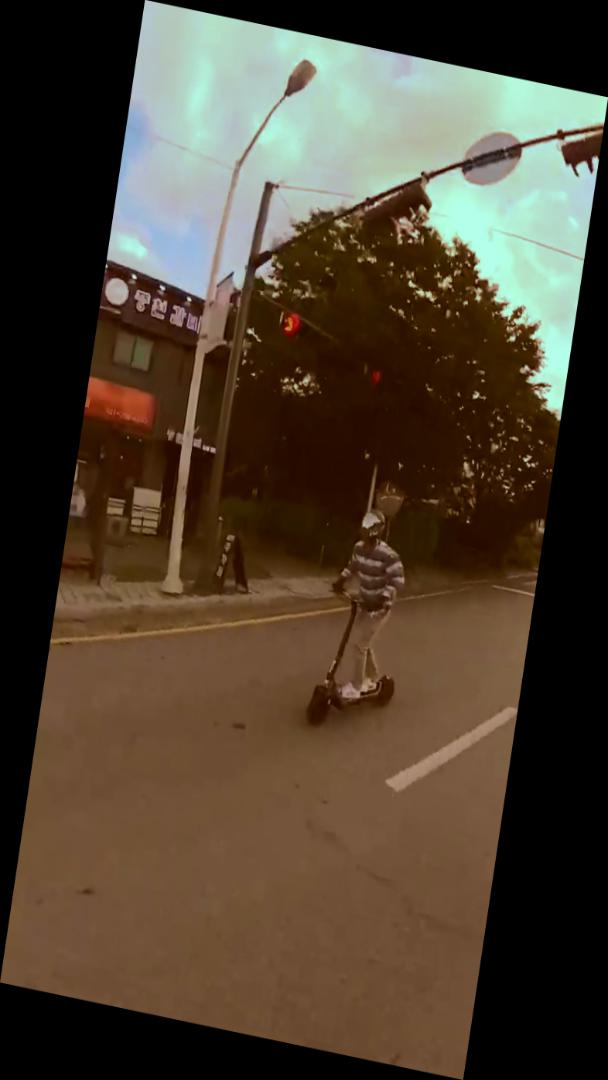helmet: (301, 499, 421, 746)
